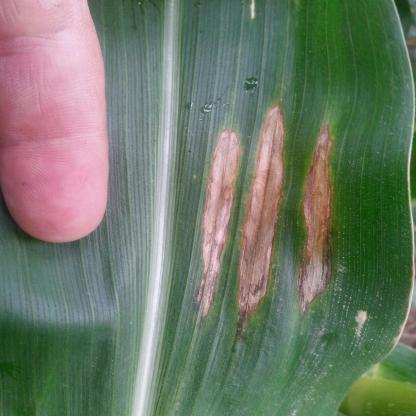Corn leaf blight: (118, 1, 412, 416)
